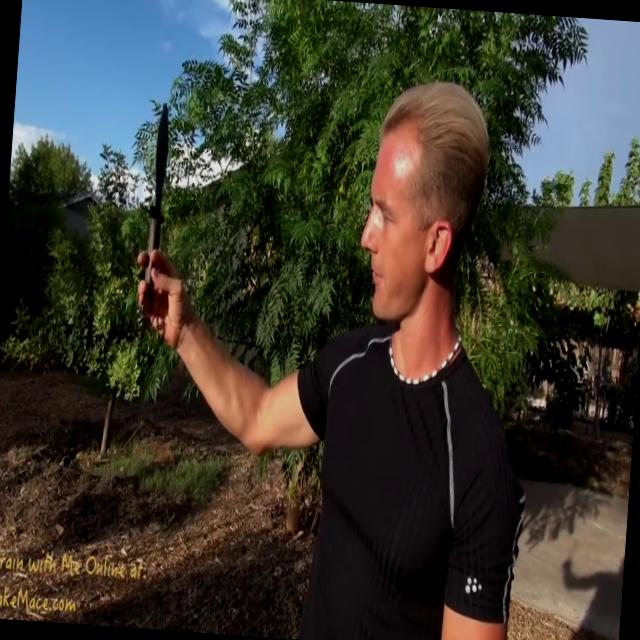knife: (134, 80, 178, 332)
